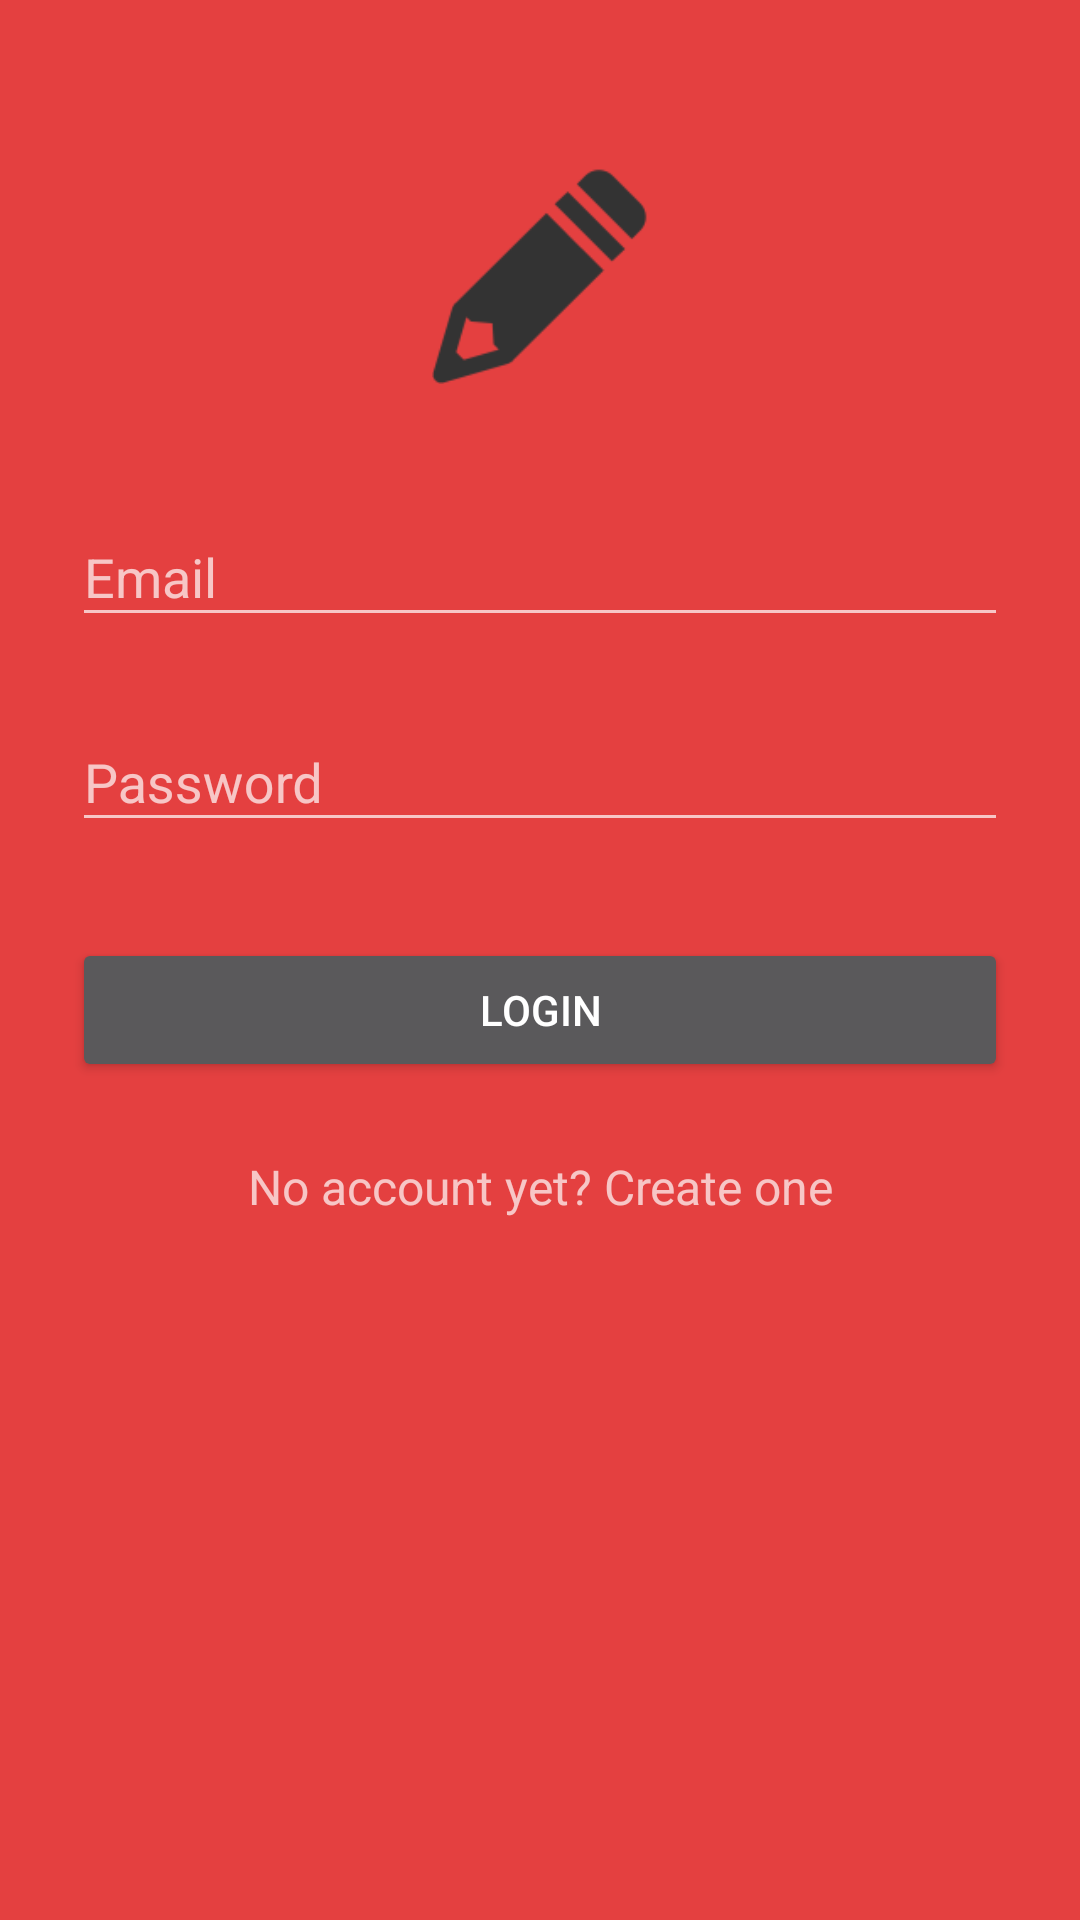

Icon bounding boxes for this 1080×1920 phone screenshot, format (x1,y1,x2,y2):
pencil images: (432,169,647,384)
